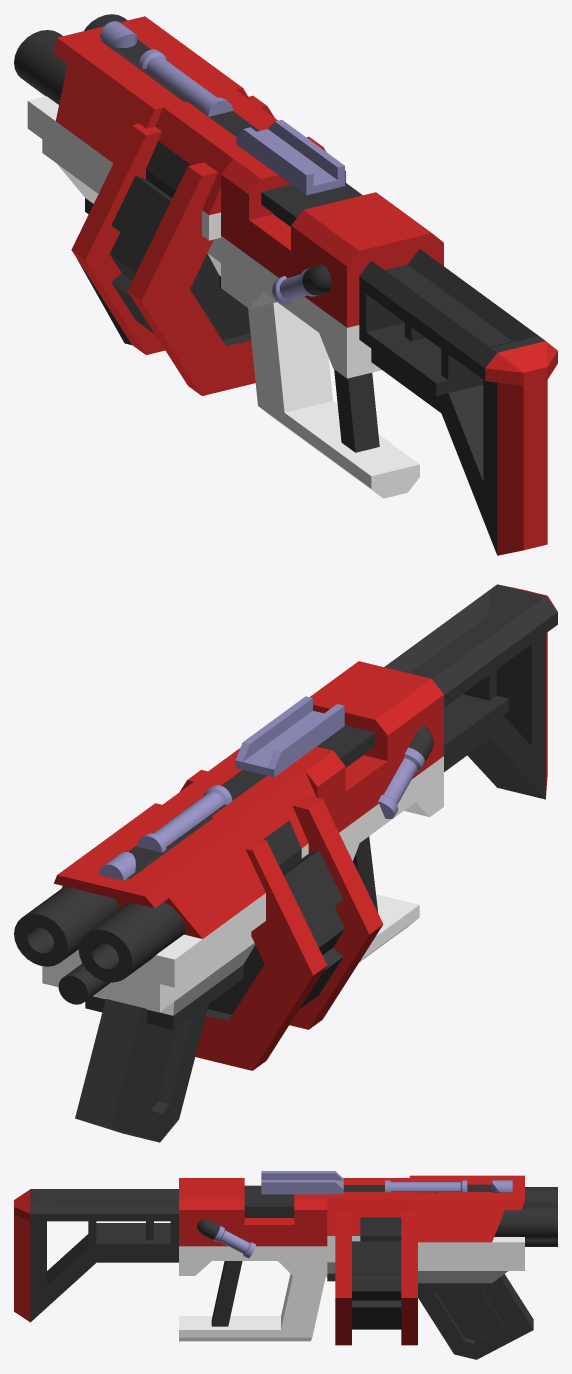
The picture shows the model from 3 angles, top to bottom: view 1: azimuth 30°, elevation 25°; view 2: azimuth 150°, elevation 25°; view 3: azimuth 270°, elevation 25°; orthographic projection. The views are drawn at different scales.
Visible parts, largest first — view 1: mergedBlocks(Clone); view 2: mergedBlocks(Clone); view 3: mergedBlocks(Clone).
Boxes of the visible parts, x1,y1,x2,y2 form: mergedBlocks(Clone): (14,14,557,555); mergedBlocks(Clone): (14,584,557,1142); mergedBlocks(Clone): (14,1171,557,1359).
Size of the model in its own units: 1 by 1.19 by 3.3.
